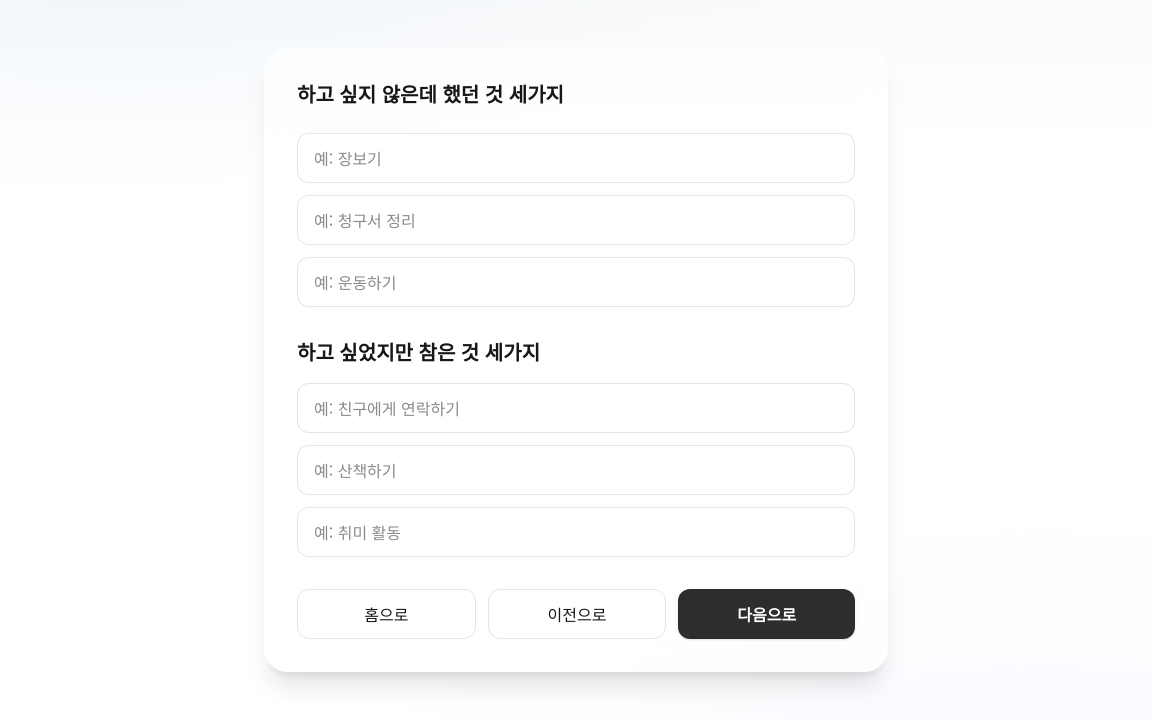
it: StepTwoPage › shows error message when insert fails
Expected: the heading "하고 싶지 않은데 했던 것 세가지" is shown, [297, 84, 564, 106]
Type "장보기" into the field with placeholder "예: 장보기" at (576, 158), box [297, 133, 855, 183]
Type "청구서 정리" into the field with placeholder "예: 청구서 정리" at (576, 220), box [297, 195, 855, 245]
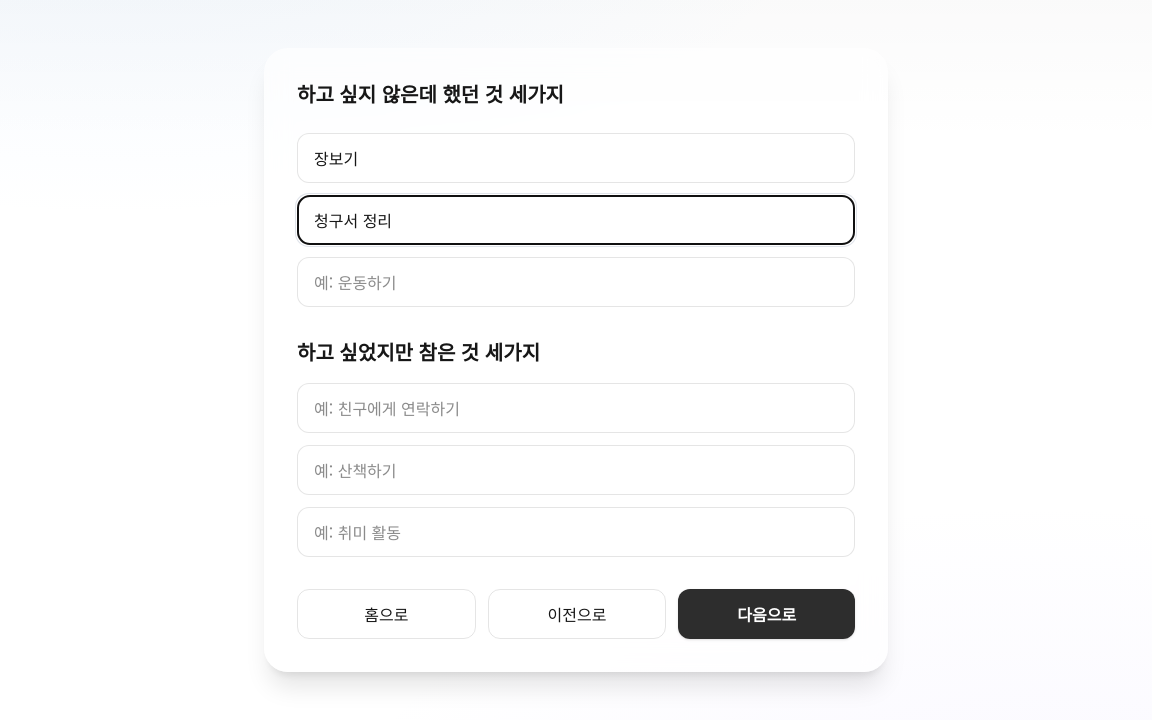
Type "운동하기" into the field with placeholder "예: 운동하기" at (576, 282), box [297, 257, 855, 307]
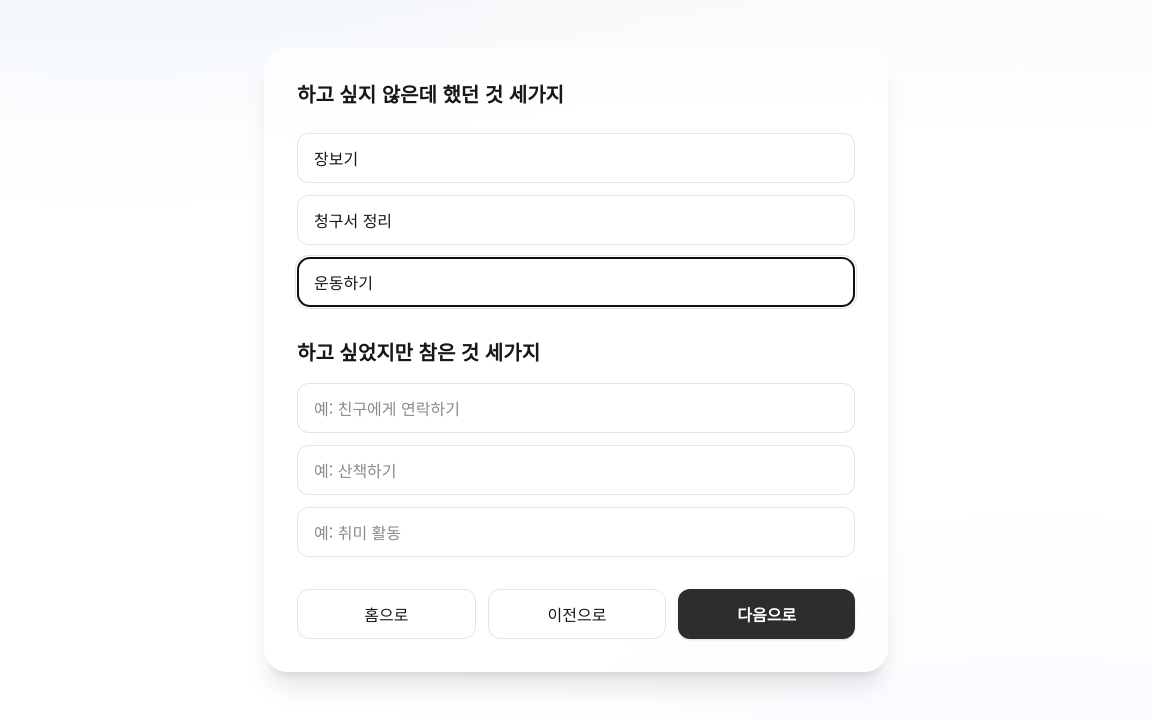
Type "친구에게 연락하기" into the field with placeholder "예: 친구에게 연락하기" at (576, 408), box [297, 383, 855, 433]
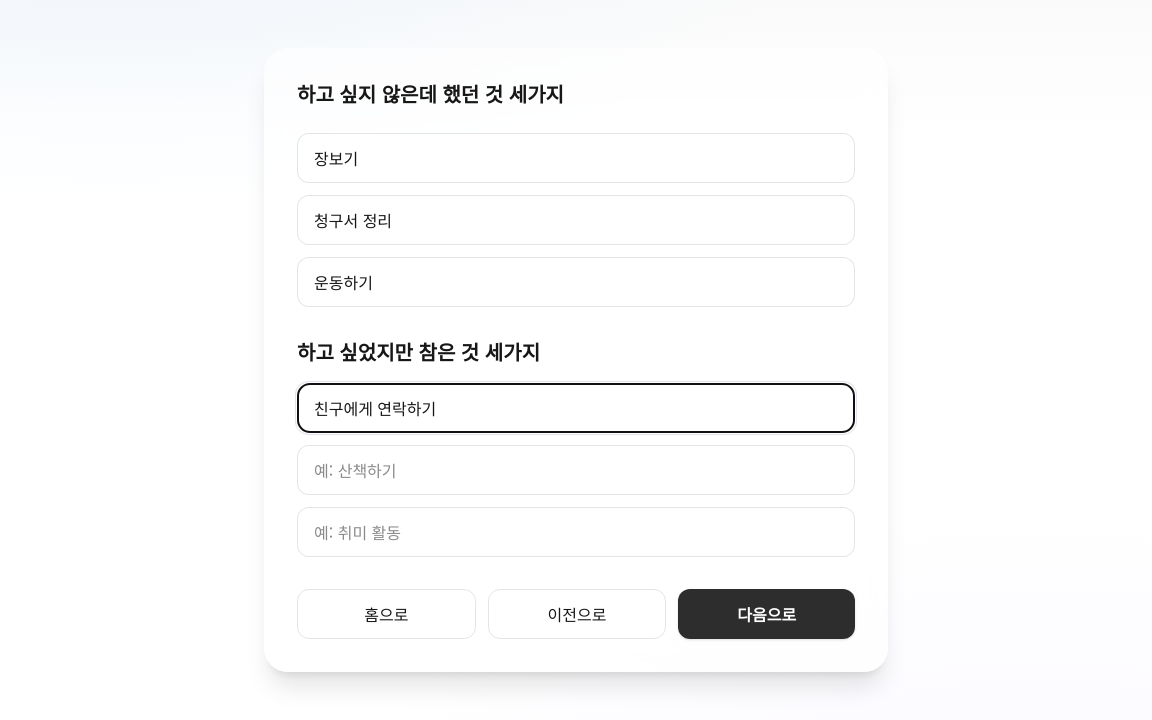
Type "산책하기" into the field with placeholder "예: 산책하기" at (576, 470), box [297, 445, 855, 495]
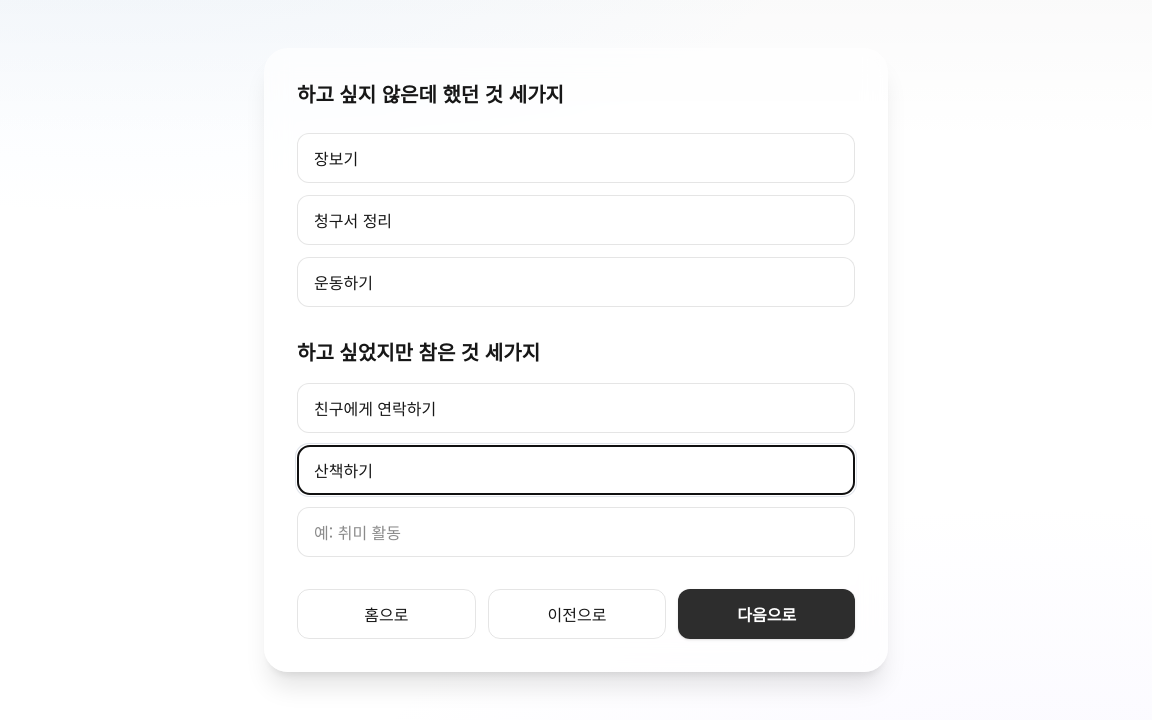
Type "취미 활동" into the field with placeholder "예: 취미 활동" at (576, 532), box [297, 507, 855, 557]
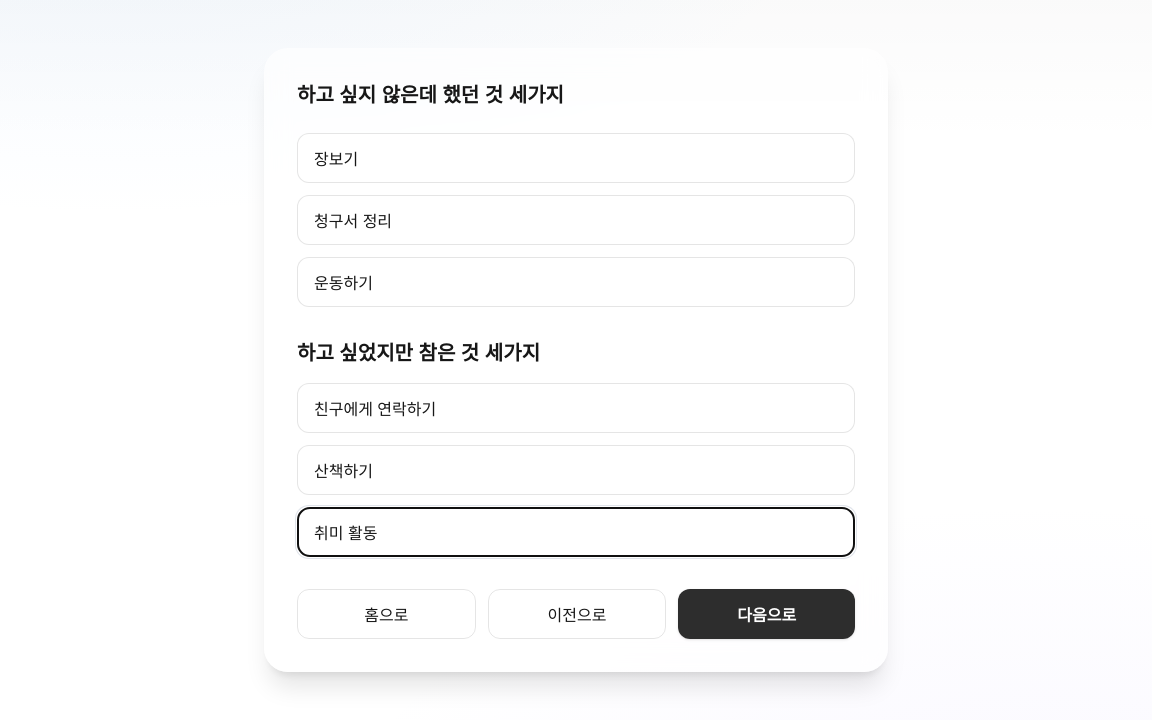
Click the button "다음으로" at (767, 614), box [678, 589, 855, 639]
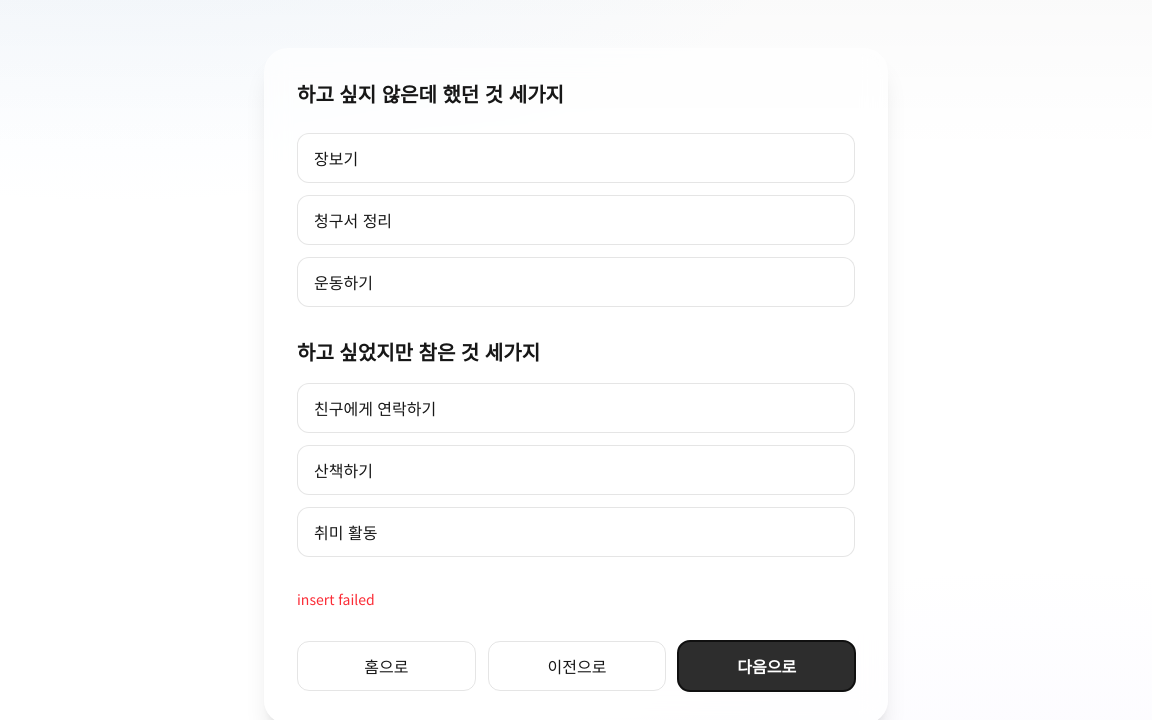
Now the text "insert failed" is shown, box [297, 589, 375, 609]
